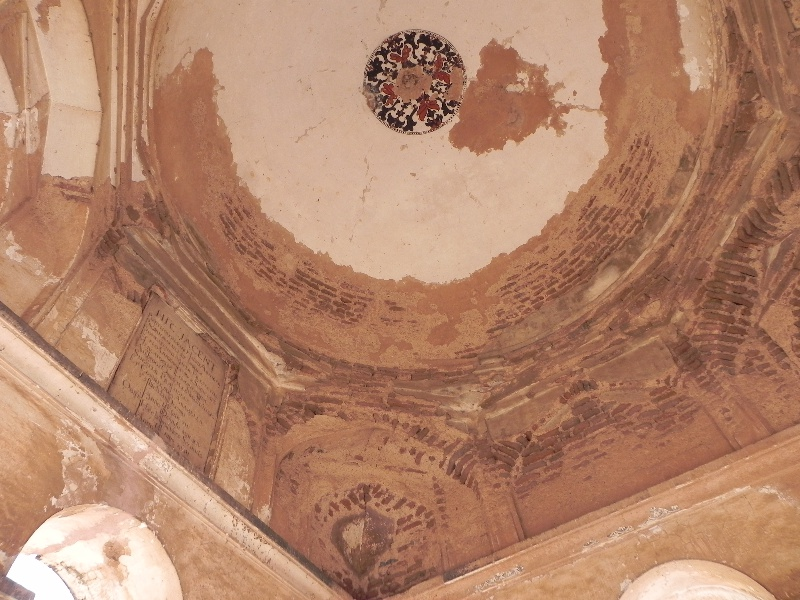Exposed Bricks: (688, 153, 796, 374), (511, 379, 700, 502), (222, 202, 361, 315)
